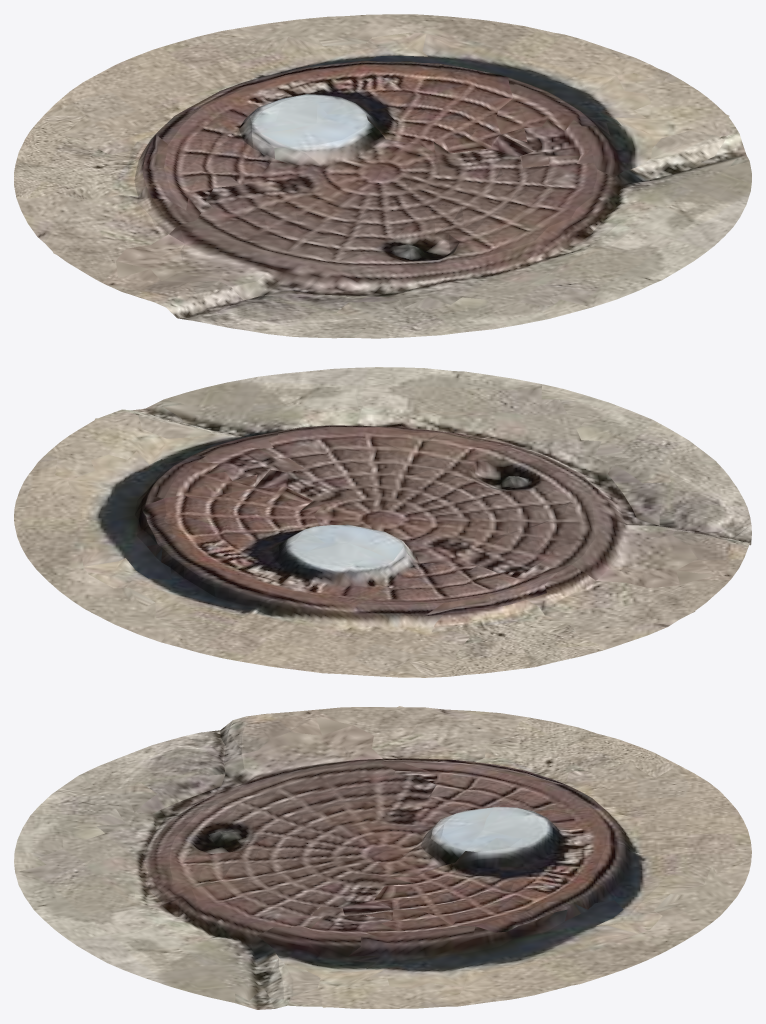
Rendered from mh_storm.glb.
3 renders of one model, top to bottom at view 1: azimuth 30°, elevation 25°; view 2: azimuth 150°, elevation 25°; view 3: azimuth 270°, elevation 25°, orthographic.
Parts seen in each view (by area): view 1: Mesh_0_w; view 2: Mesh_0_w; view 3: Mesh_0_w.
Boxes of the visible parts, x1,y1,x2,y2 form: Mesh_0_w: (14, 14, 751, 338); Mesh_0_w: (14, 367, 751, 677); Mesh_0_w: (14, 706, 751, 1009).
Bounding box in the file's own units: 0.7808 × 0.0412 × 0.7793.
1 material, 1 textured.
